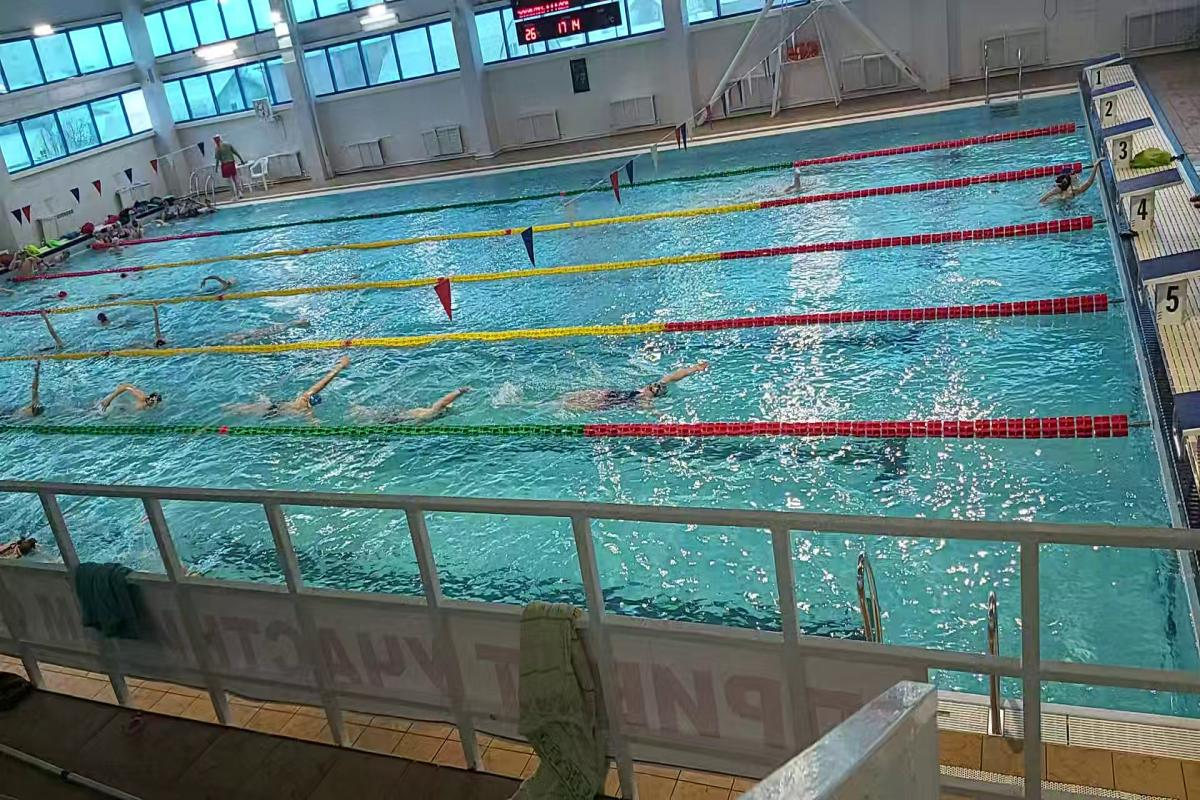swimmer: (553, 358, 708, 415), (222, 360, 331, 424), (363, 385, 470, 422), (99, 379, 165, 418), (9, 368, 50, 422), (1038, 174, 1091, 204), (34, 314, 73, 352), (142, 308, 174, 350), (198, 272, 238, 293)
